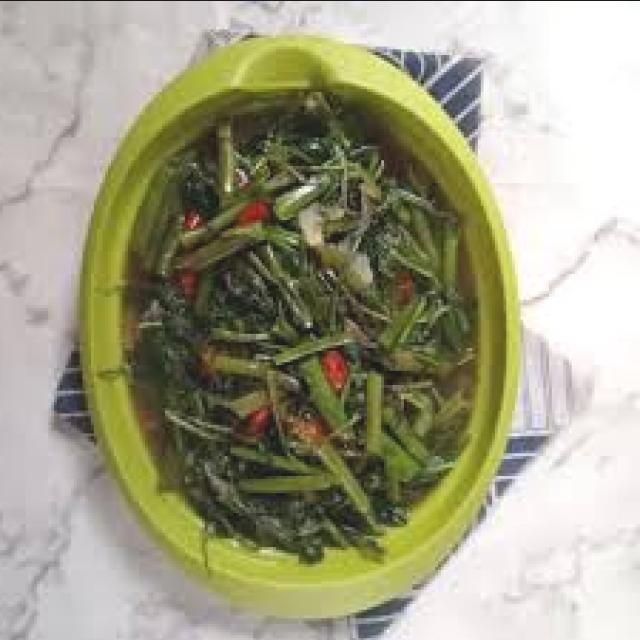tumis kangkung: (122, 91, 478, 558)
